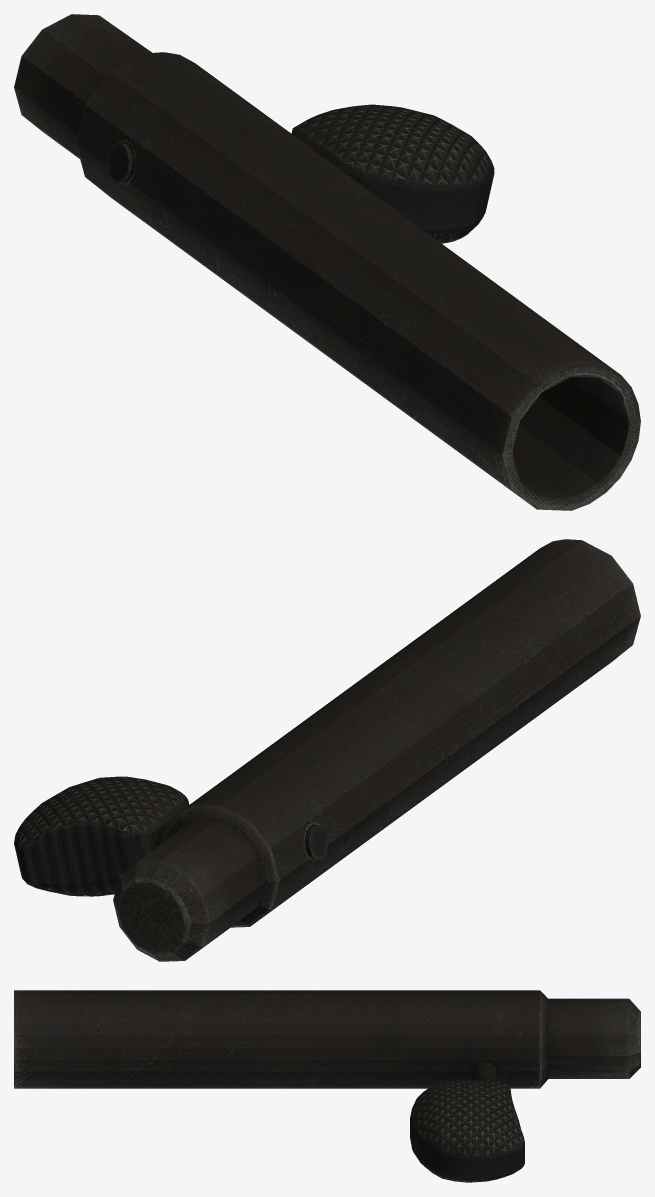
3 renders of one model, top to bottom at view 1: azimuth 30°, elevation 25°; view 2: azimuth 150°, elevation 25°; view 3: azimuth 270°, elevation 25°, orthographic. The views are drawn at different scales.
Visible parts, largest first — view 1: TW_5926c32286f774616e42de99_PZ_Import; view 2: TW_5926c32286f774616e42de99_PZ_Import; view 3: TW_5926c32286f774616e42de99_PZ_Import.
Boxes of the visible parts, left/top/right/bottom form: TW_5926c32286f774616e42de99_PZ_Import: left=14, top=14, right=640, bottom=510; TW_5926c32286f774616e42de99_PZ_Import: left=14, top=539, right=640, bottom=961; TW_5926c32286f774616e42de99_PZ_Import: left=14, top=990, right=640, bottom=1182.
Size of the model in its own units: 0.0225 by 0.0559 by 0.0114.
1 material, 1 textured.
